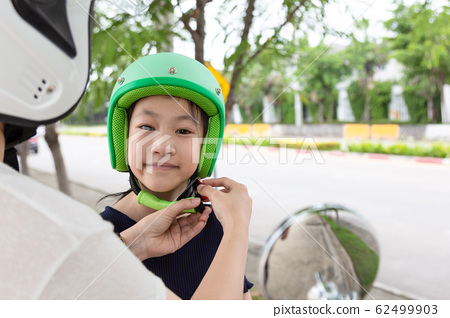helmet: (106, 52, 225, 194)
